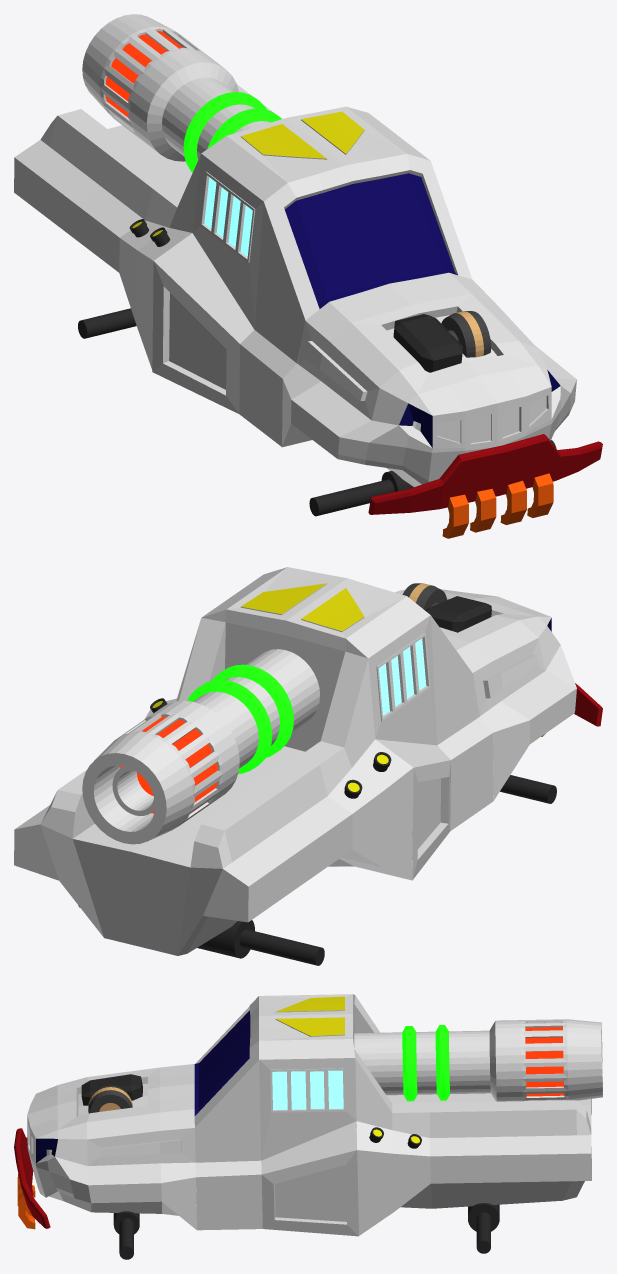
Rendered from Car6.fbx.
The picture shows the model from 3 angles, top to bottom: view 1: azimuth 30°, elevation 25°; view 2: azimuth 150°, elevation 25°; view 3: azimuth 270°, elevation 25°; orthographic projection. The views are drawn at different scales.
Visible parts, largest first — view 1: back body, turbo, Plane.003, engine, f axis, Plane.005, Plane.004, engine wheel, back axis; view 2: back body, turbo, back axis, engine, f axis, engine wheel, Plane.003; view 3: back body, turbo, Plane.003, back axis, engine, engine wheel, f axis, Plane.005.
Boxes of the visible parts, x1=… form: back body: x1=14, y1=84, x2=576, y2=487; turbo: x1=82, y1=14, x2=281, y2=172; Plane.003: x1=368, y1=434, x2=602, y2=514; engine: x1=393, y1=314, x2=462, y2=372; f axis: x1=309, y1=440, x2=556, y2=516; Plane.005: x1=442, y1=473, x2=553, y2=538; Plane.004: x1=470, y1=480, x2=526, y2=532; engine wheel: x1=441, y1=311, x2=490, y2=357; back axis: x1=78, y1=308, x2=136, y2=338; back body: x1=14, y1=567, x2=576, y2=955; turbo: x1=82, y1=649, x2=320, y2=844; back axis: x1=78, y1=905, x2=324, y2=965; engine: x1=425, y1=596, x2=491, y2=632; f axis: x1=500, y1=775, x2=556, y2=803; engine wheel: x1=402, y1=583, x2=446, y2=609; Plane.003: x1=574, y1=683, x2=602, y2=726; back body: x1=27, y1=994, x2=591, y2=1236; turbo: x1=354, y1=1019, x2=602, y2=1101; Plane.003: x1=14, y1=1128, x2=50, y2=1228; back axis: x1=468, y1=1203, x2=499, y2=1253; engine: x1=81, y1=1074, x2=142, y2=1105; engine wheel: x1=88, y1=1085, x2=132, y2=1113; f axis: x1=113, y1=1211, x2=139, y2=1259; Plane.005: x1=18, y1=1185, x2=35, y2=1229.
Size of the model in its own units: 240 by 237 by 612.
